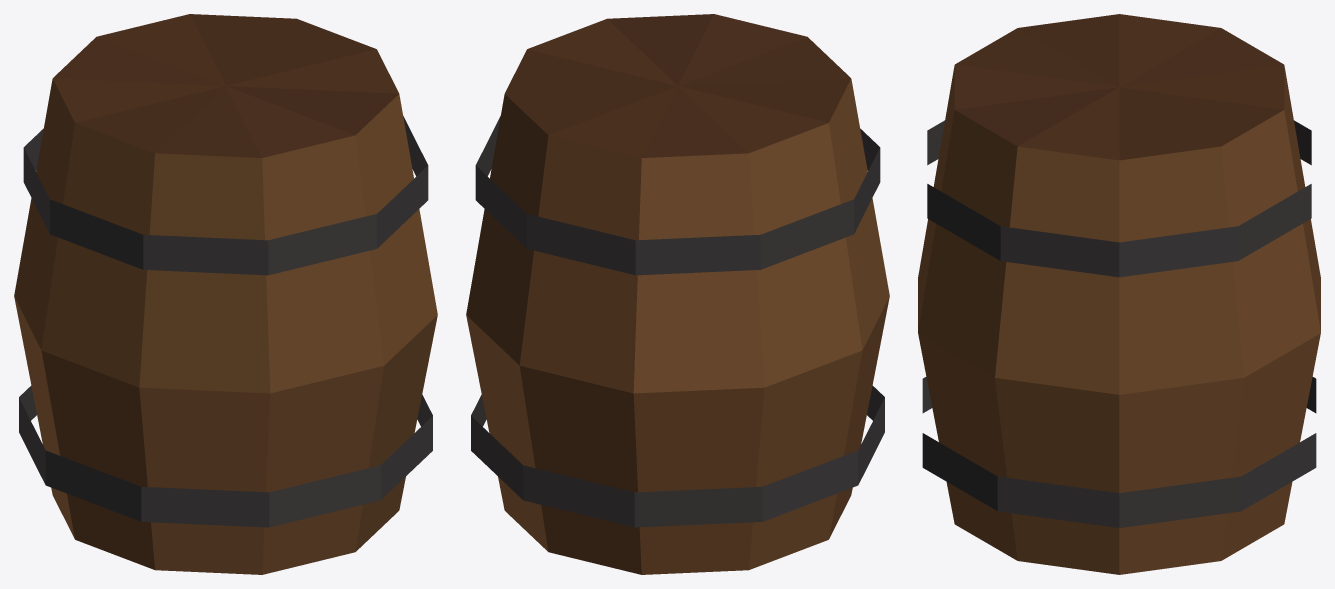
File: Meadow_Barrel.fbx
3 views of the same model, side by side, from view 1: azimuth 30°, elevation 25°; view 2: azimuth 150°, elevation 25°; view 3: azimuth 270°, elevation 25° (orthographic).
Parts seen in each view (by area): view 1: Meadow_Barrel; view 2: Meadow_Barrel; view 3: Meadow_Barrel.
Part boxes in pixels (x1,y1,x2,y2): Meadow_Barrel: (14, 14, 437, 574); Meadow_Barrel: (466, 14, 889, 574); Meadow_Barrel: (918, 14, 1320, 574).
Size of the model in its own units: 0.88 by 0.95 by 0.8369.
